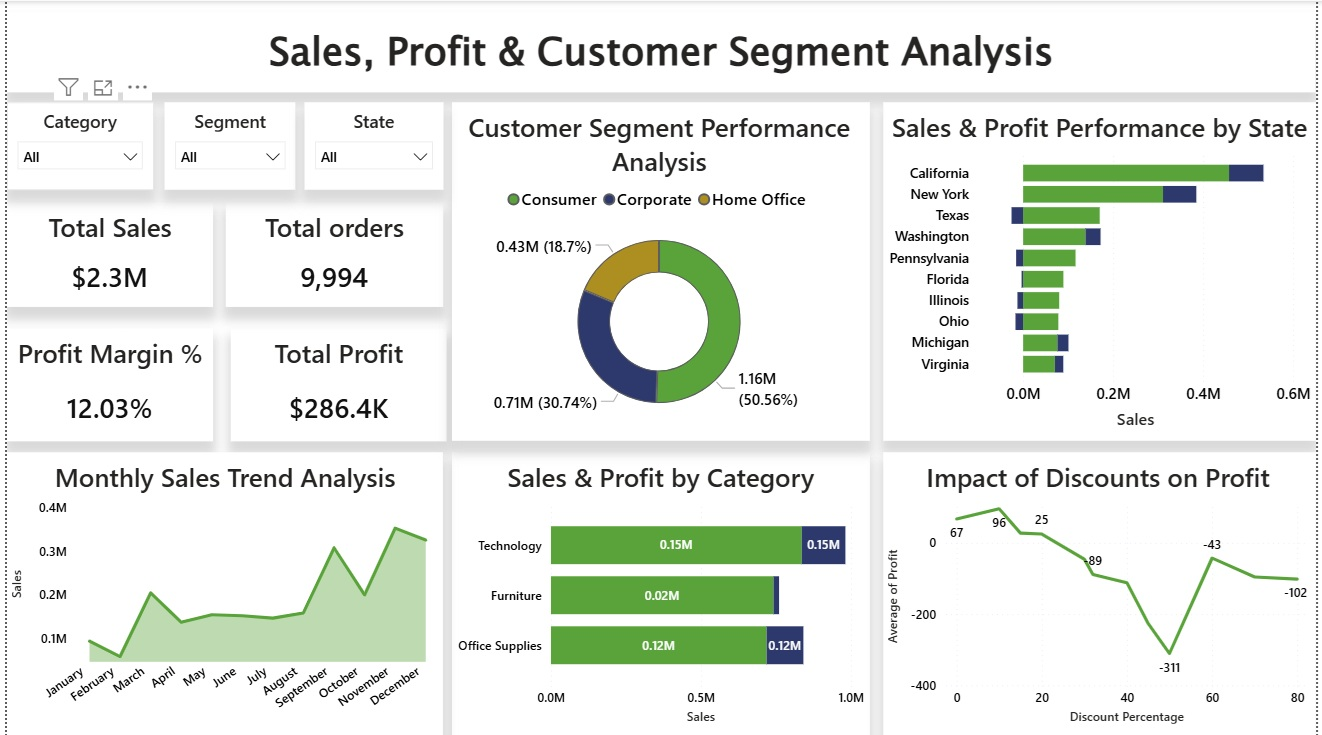

What the dashboard file says about the page in this screenshot:
{"tool":"powerbi","page":{"name":"Page 1","canvas":[1280,720],"ordinal":0},"visuals":[{"type":"textbox","box":[0,11,1280.3,78.3],"z":0},{"type":"cardVisual","title":"Total Sales","fields":{"Data":["Sum(Sheet1.Sales)"]},"box":[0,196.9,201.8,90.5],"z":1000},{"type":"cardVisual","title":"Profit Margin %","fields":{"Data":["Avg(Sheet1.Profit  Margin %)"]},"box":[0,299.6,201.8,110.1],"z":2000},{"type":"cardVisual","title":"Total Profit","fields":{"Data":["Sum(Sheet1.Profit)"]},"box":[215.2,299.6,211.6,110.1],"z":3000},{"type":"cardVisual","title":"Total orders","fields":{"Data":["Sheet1.Total Order"]},"box":[214,196.9,212.8,90.5],"z":4000},{"type":"barChart","title":"Sales & Profit Performance by State","fields":{"Y":["Sum(Sheet1.Sales)","Sum(Sheet1.Profit)"],"Category":["Sheet1.State"]},"box":[857.2,99,423.1,310.6],"z":5000},{"type":"barChart","title":"Sales & Profit by Category","fields":{"Y":["Sum(Sheet1.Sales)","Sum(Sheet1.Profit)"],"Category":["Sheet1.Category"]},"box":[435.3,421.9,408.4,298.4],"z":6000},{"type":"lineChart","title":"Monthly Sales Trend Analysis","fields":{"Y":["Sum(Sheet1.Sales)"],"Category":["Sheet1.Month"]},"box":[0,421.9,426.8,298.4],"z":7000},{"type":"donutChart","title":"Customer Segment Performance Analysis","fields":{"Y":["Sum(Sheet1.Sales)"],"Category":["Sheet1.Segment"]},"box":[435.3,99,408.4,310.6],"z":8000},{"type":"lineChart","title":"Impact of Discounts on Profit","fields":{"Y":["Avg(Sheet1.Profit)"],"Category":["Sheet1.Discount Category"]},"box":[857.2,421.9,423.1,298.4],"z":9000},{"type":"slicer","title":"Category","fields":{"Values":["Sheet1.Category"]},"box":[0,99,143.1,85.6],"z":9001},{"type":"slicer","title":"Segment","fields":{"Values":["Sheet1.Segment"]},"box":[154.1,99,128.4,85.6],"z":9002},{"type":"slicer","title":"State","fields":{"Values":["Sheet1.State"]},"box":[291,99,135.7,85.6],"z":9003}]}

Visuals, with their boxes in screenshot pixels (x1, y1, x2, y2), scaled from the page's 1280x720 canvas onto the 1322x735 screenshot:
textbox: l=0, t=11, r=1321, b=91
"Total Sales" cardVisual: l=0, t=201, r=208, b=293
"Profit Margin %" cardVisual: l=0, t=306, r=208, b=418
"Total Profit" cardVisual: l=222, t=306, r=441, b=418
"Total orders" cardVisual: l=221, t=201, r=441, b=293
"Sales & Profit Performance by State" barChart: l=885, t=101, r=1321, b=418
"Sales & Profit by Category" barChart: l=450, t=431, r=871, b=734
"Monthly Sales Trend Analysis" lineChart: l=0, t=431, r=441, b=734
"Customer Segment Performance Analysis" donutChart: l=450, t=101, r=871, b=418
"Impact of Discounts on Profit" lineChart: l=885, t=431, r=1321, b=734
"Category" slicer: l=0, t=101, r=148, b=188
"Segment" slicer: l=159, t=101, r=292, b=188
"State" slicer: l=301, t=101, r=441, b=188
